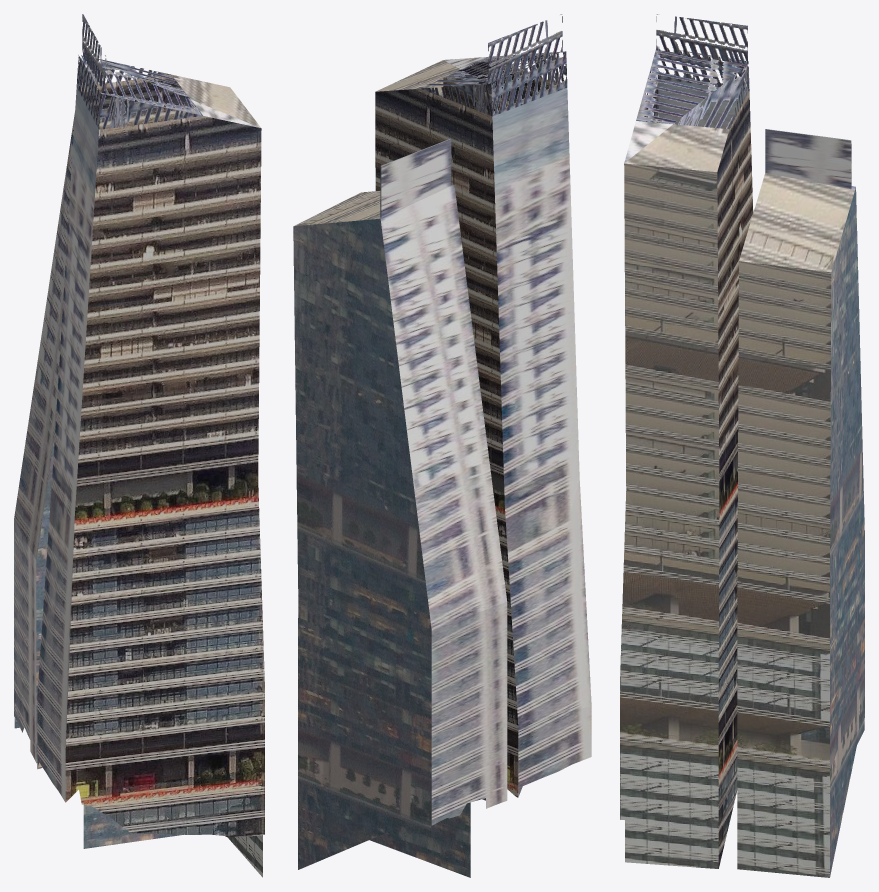
3 views of the same model, side by side, from view 1: azimuth 30°, elevation 25°; view 2: azimuth 150°, elevation 25°; view 3: azimuth 270°, elevation 25° (orthographic). The views are drawn at different scales.
Visible parts, largest first — view 1: geometry_0, geometry_1; view 2: geometry_0, geometry_1; view 3: geometry_0, geometry_1.
Part boxes in pixels (<box>): geometry_0: <box>14,57,264,877</box>; geometry_1: <box>76,14,202,129</box>; geometry_0: <box>293,57,591,877</box>; geometry_1: <box>420,14,567,116</box>; geometry_0: <box>620,79,864,877</box>; geometry_1: <box>636,14,749,129</box>.
Size of the model in its own units: 58.31 by 220 by 62.14.
2 materials, 2 textured.
